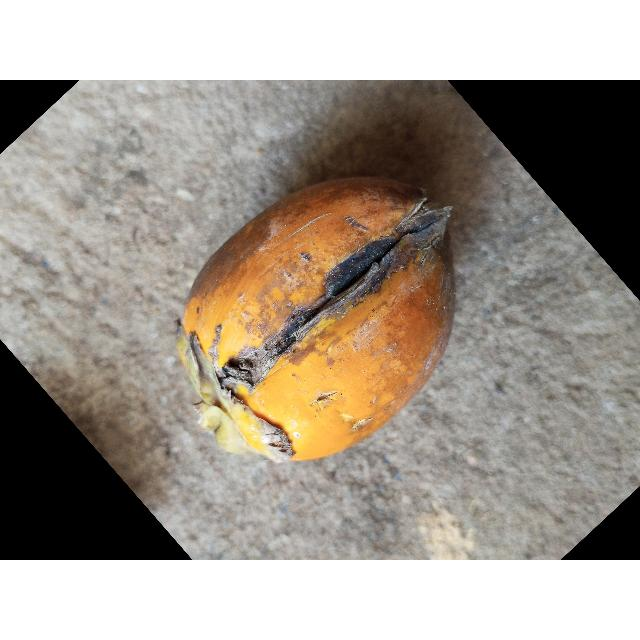damaged: (176, 177, 455, 466)
